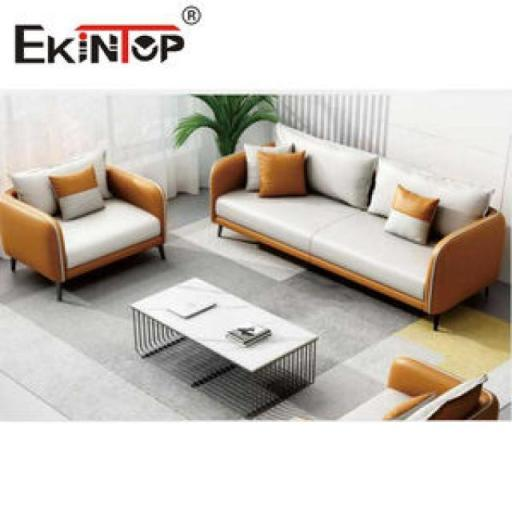sofa: (222, 130, 510, 364), (6, 130, 206, 322)
